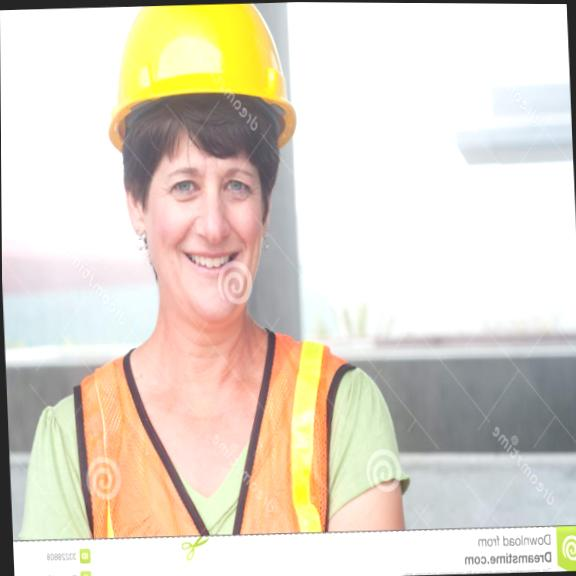safety_vest: (77, 345, 362, 557)
